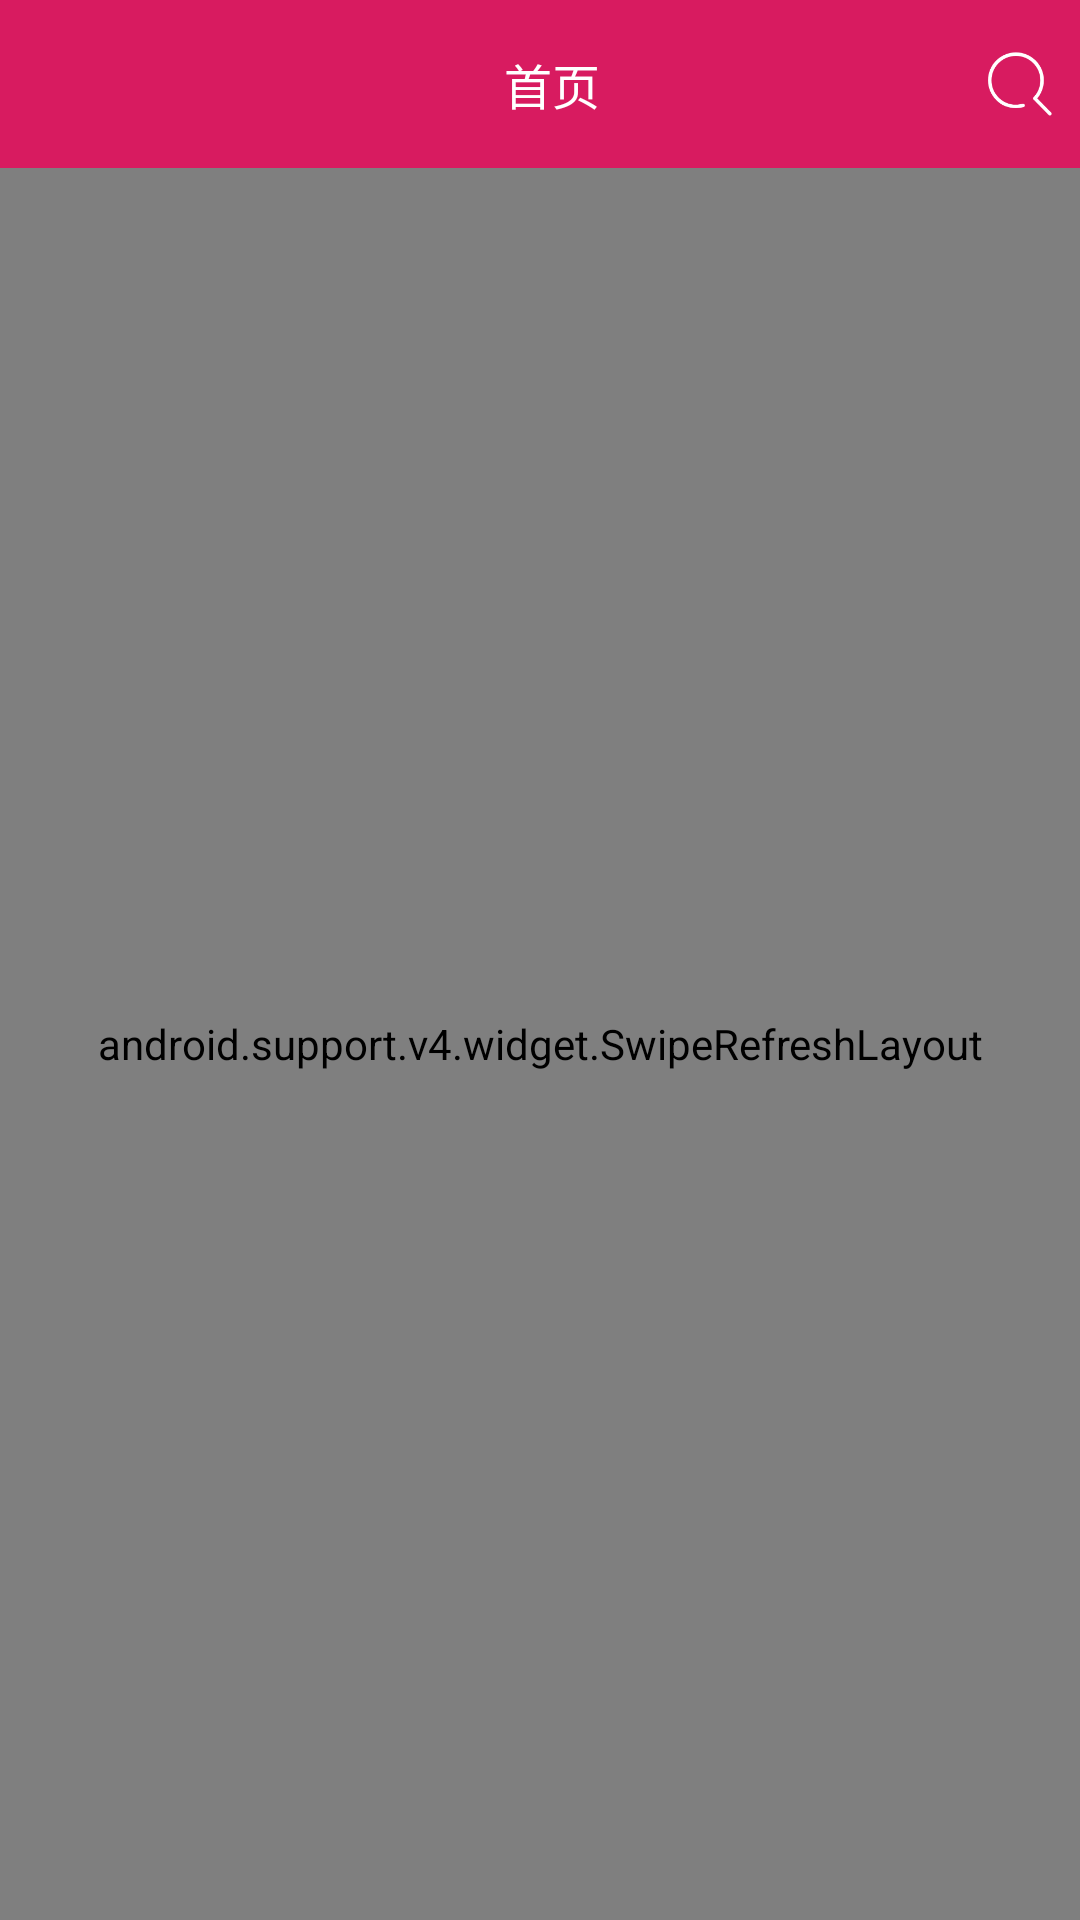

Screen size 1080 x 1920. Icon name, then its center in pixels as (x=x, y=y):
搜索: (x=1020, y=84)
